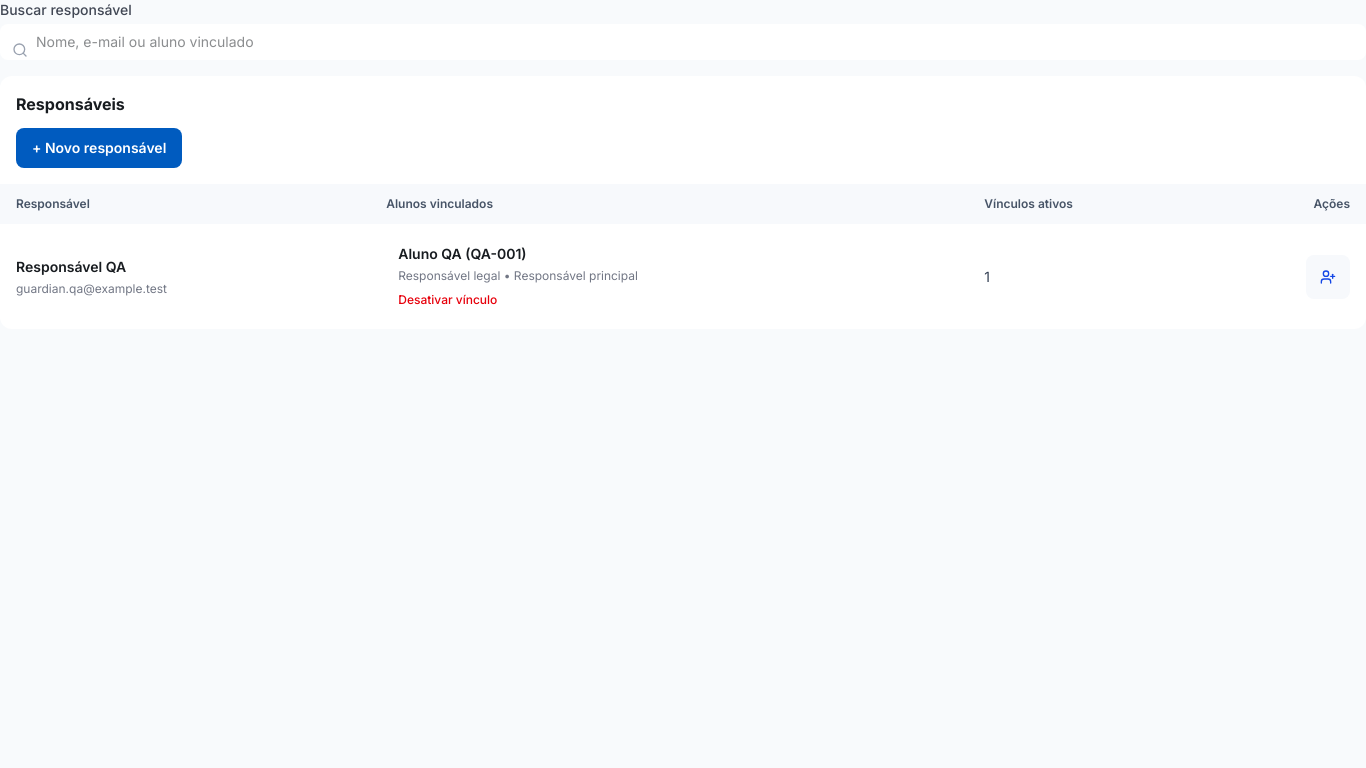
Test: GuardiansTab › confirma e executa a desativação com a instituição e o vínculo corretos
What coordinates should you click on to do the following:
click the button "Desativar vínculo"
I would click on:
 (448, 300)
Its box is [398,292,497,308].
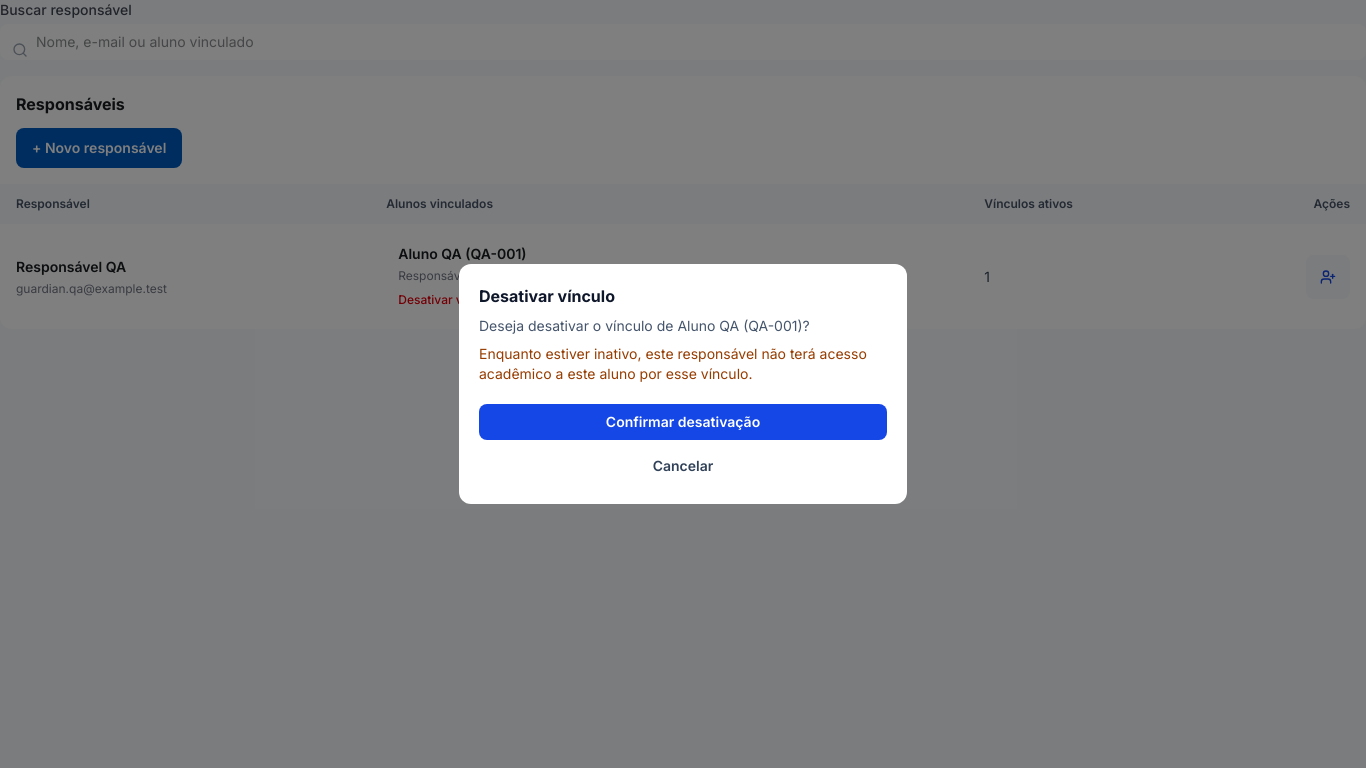
Check: the dialog is shown, box [459,264,907,504]
What coordinates should you click on to do the following:
click the button "Confirmar desativação"
I would click on:
 (683, 422)
Its box is [479,404,887,440].
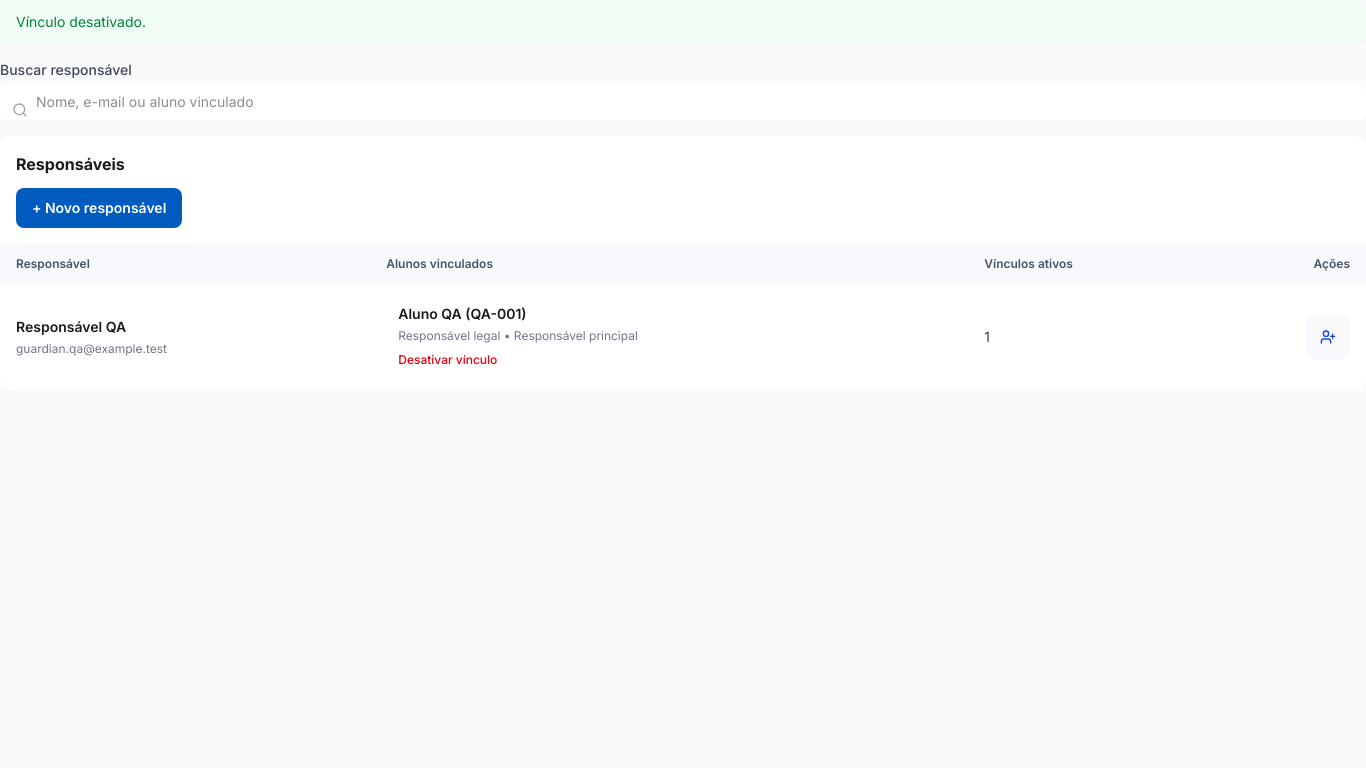
Check: the message reads "Vínculo desativado.", box [16,13,146,30]
